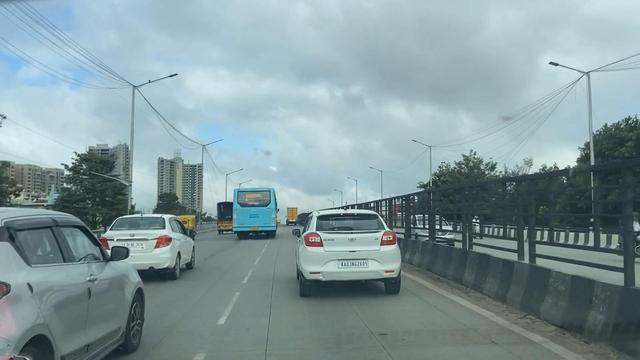HMV: (233, 183, 280, 247)
LMV: (0, 199, 146, 360), (287, 205, 422, 304)
